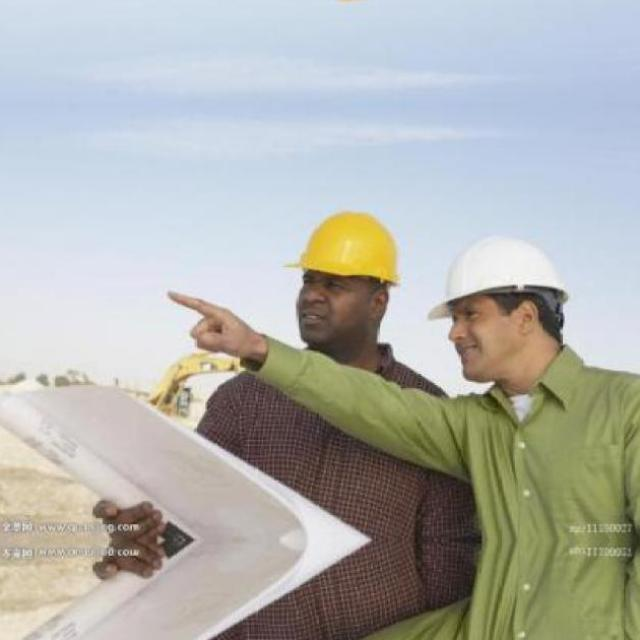helmet: (427, 235, 568, 320), (286, 210, 400, 286)
